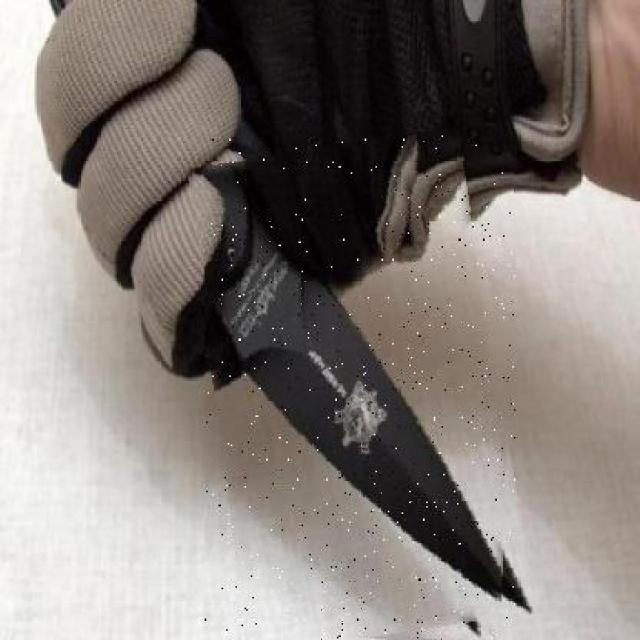knife: (204, 135, 516, 640)
